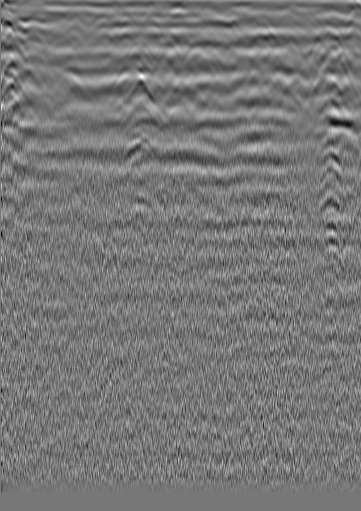가스: (120, 136, 155, 167)
상수: (284, 31, 304, 51)
오수: (26, 31, 46, 51)
우수: (169, 28, 189, 48)
